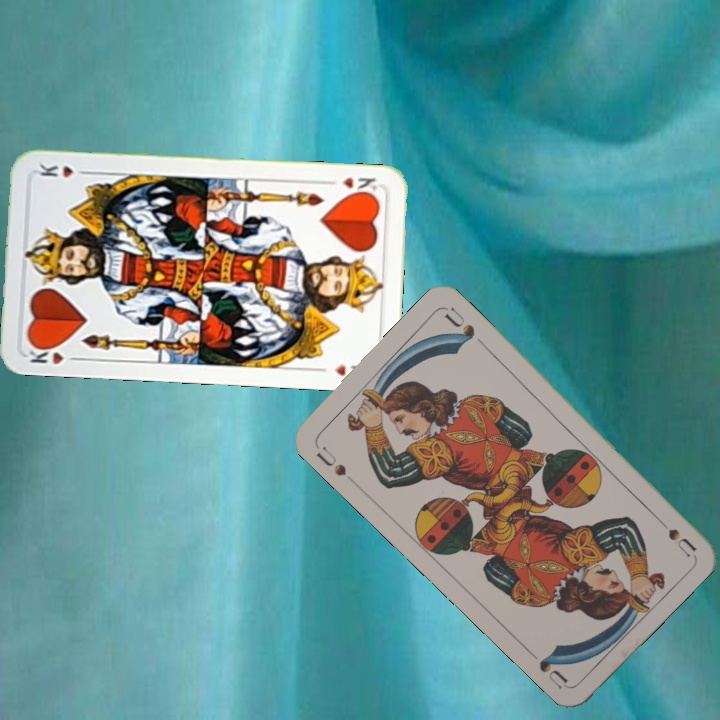HK: (25, 340, 83, 367), (323, 173, 379, 198)
SU: (649, 510, 699, 559), (311, 442, 349, 479)
